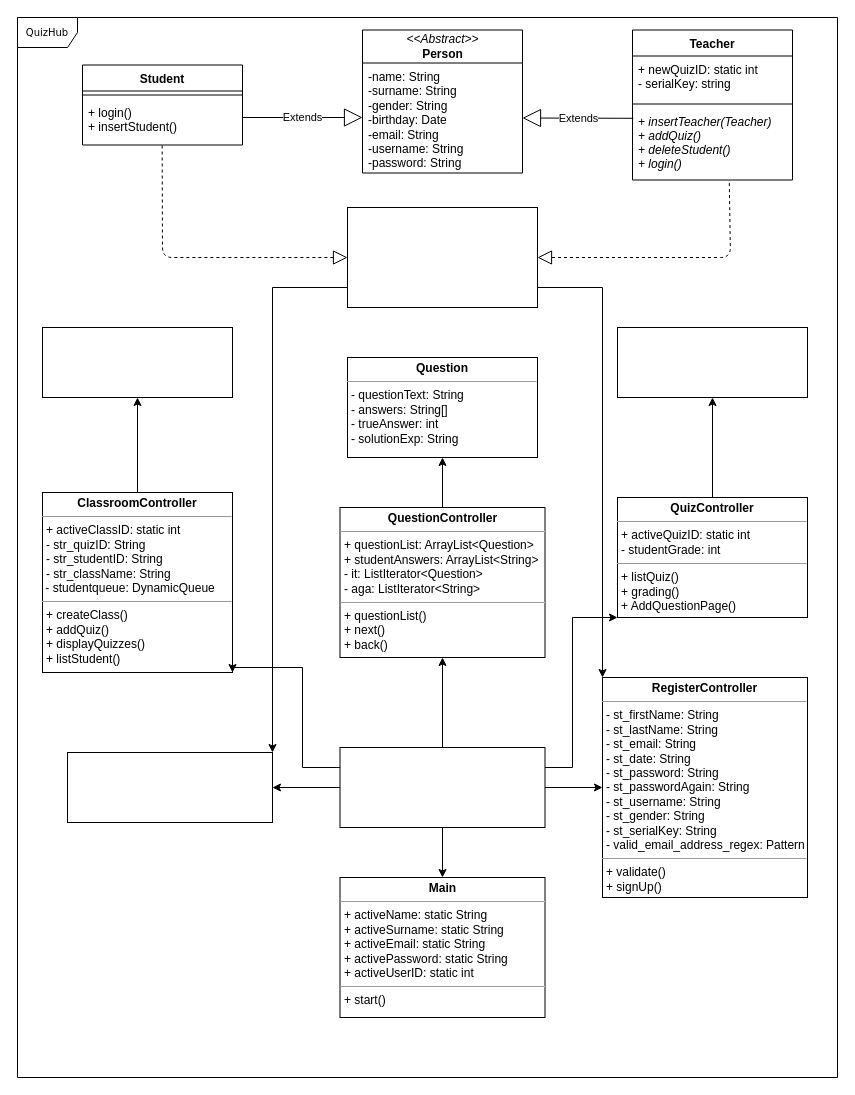
Image size: 855x1095. Some labels were removed from this diagram. The shapes that lost their labels are listed below. From the top down, each one's centre as x and y in pixels, then its label:
At point 442,257: "<<Interface>> Account + login() + insert() + delete()".
At point 137,362: "Classroom - name - studentqueue: DynamicQueue".
At point 712,362: "Quiz - quizName: String - quizLevel: int".
At point 169,787: "LoginController + loginStudent() + loginTeacher()".
At point 442,787: "MenuController + closePage(cikis) + logout() + backPage()".
